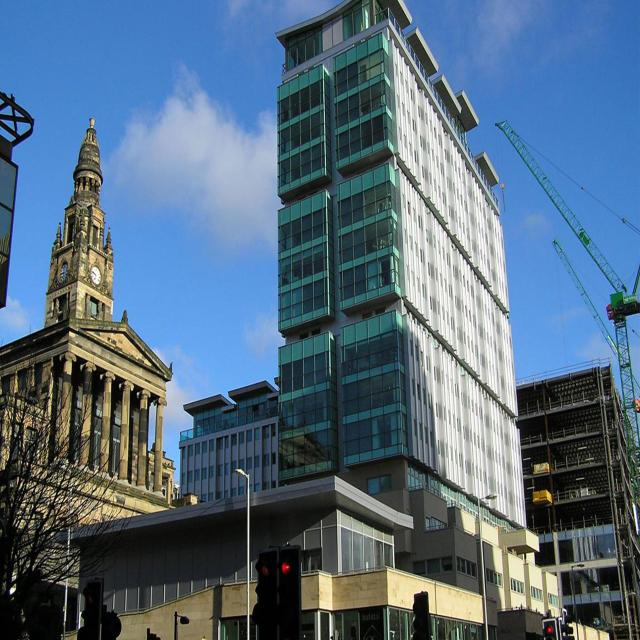Street Light: (49, 461, 73, 640), (477, 492, 498, 640), (234, 466, 250, 640)
